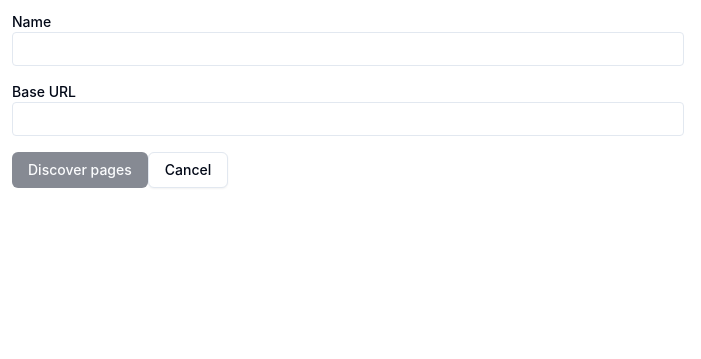
Test case: SiteWizard › post-discover, name + base_url inputs are read-only with an "Edit URL" link that resets state
Type "X" into the field labelled "Name" at x=348, y=49, box [12, 32, 684, 66]
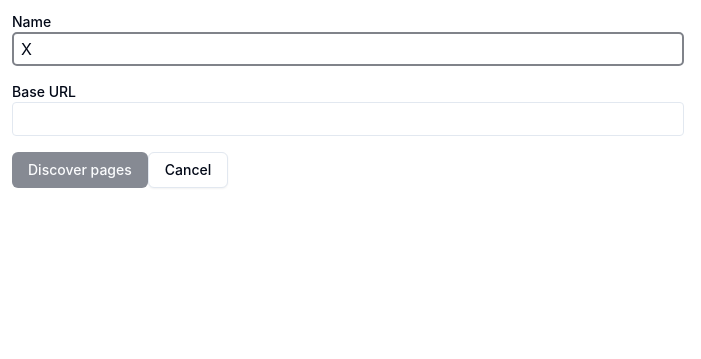
Type "https://x" into the field labelled "Base URL" at x=348, y=119, box [12, 102, 684, 136]
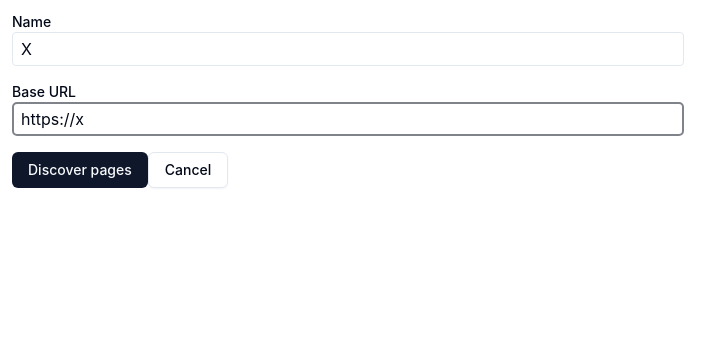
Click the button "Discover pages" at x=80, y=170, box [12, 152, 148, 188]
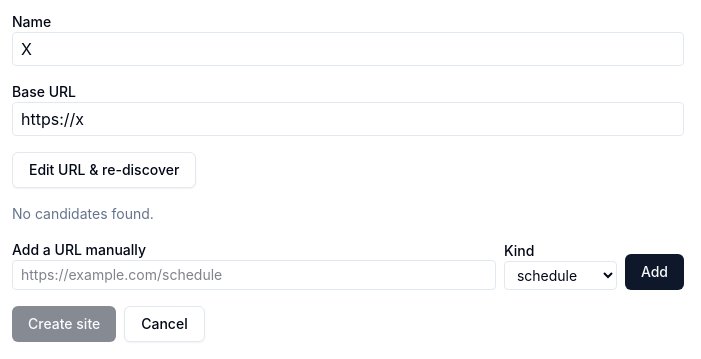
expect the button "Edit URL & re-discover" is shown: met
Click the button "Edit URL & re-discover" at x=104, y=170, box [12, 152, 196, 188]
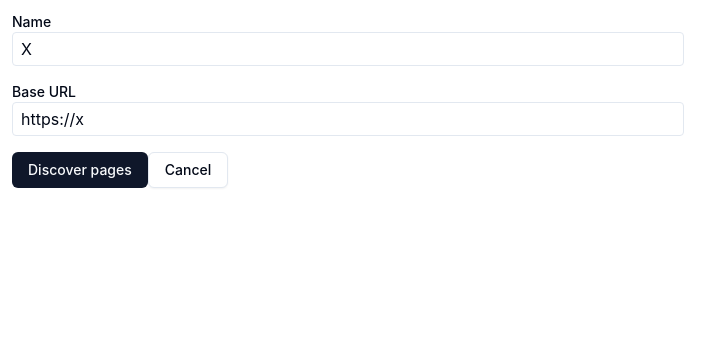
expect the button "Discover pages" is shown: met, box [12, 152, 148, 188]
